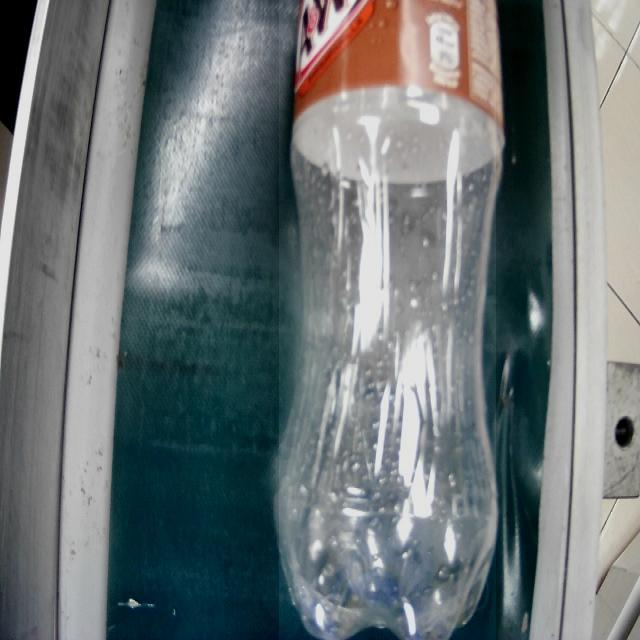Pet_Bottle: (279, 0, 496, 640)
